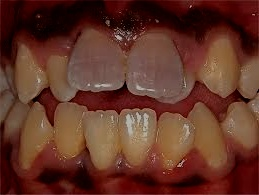Tooth Discoloration: (26, 0, 220, 96)
